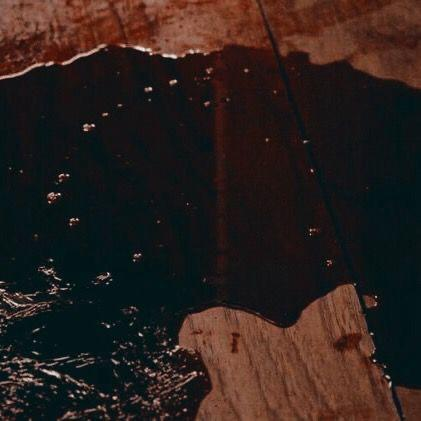blood_29.png: (2, 36, 421, 421)
